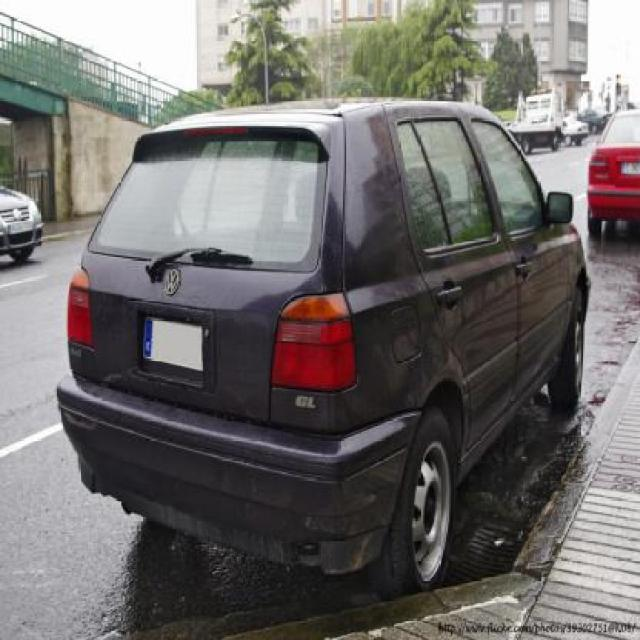License-Plates: (144, 317, 204, 371)
